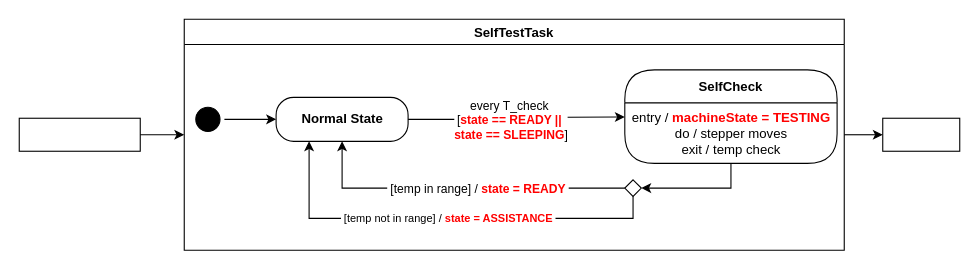
Image size: 979x270. Some labels were removed from this diagram. The centre of each missing label's shape, as x and y in pixels:
"SERVO MOTOR" belongs at point 921,134.
"TEMPERATURE SENSOR" belongs at point 79,134.
